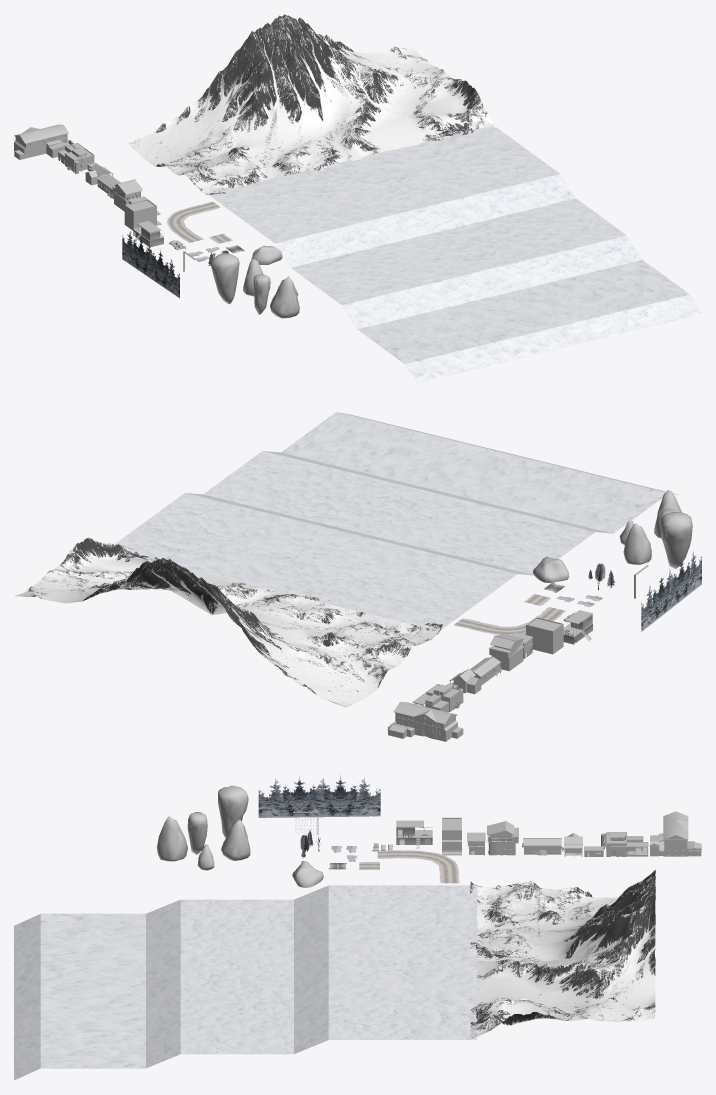
File: ENV.fbx
3 renders of one model, top to bottom at view 1: azimuth 30°, elevation 25°; view 2: azimuth 150°, elevation 25°; view 3: azimuth 270°, elevation 25°, orthographic. The views are drawn at different scales.
Visible parts, largest first — view 1: Plane, Montain, Tree_02.027, House_01, rocks_03, rocks_02, Ground_Path.001, House_07, House_02, House_05, House_08; view 2: Plane, Montain, House_01, Tree_02.027, rocks_03, House_07, House_05, House_02, Ground_Path.001, rocks_01, House_08, rock_07 (+2 smaller); view 3: Plane, Montain, Tree_02.027, House_01, rocks_03, Ground_Path.001, rocks_02, House_02, House_05, rocks_01, House_08, House_07 (+3 smaller).
Part boxes in pixels (x1,y1,x2,y2): Plane: (208, 126, 701, 383); Montain: (128, 14, 495, 194); Tree_02.027: (122, 231, 179, 298); House_01: (14, 124, 73, 159); rocks_03: (211, 253, 239, 304); rocks_02: (270, 276, 299, 318); Ground_Path.001: (167, 201, 220, 242); House_07: (124, 199, 161, 230); House_02: (58, 143, 94, 173); House_05: (112, 179, 142, 211); House_08: (133, 221, 163, 247); Plane: (116, 412, 680, 630); Montain: (15, 537, 442, 707); House_01: (387, 702, 463, 741); Tree_02.027: (641, 550, 701, 631); rocks_03: (660, 511, 692, 568); House_07: (522, 617, 563, 654); House_05: (489, 634, 524, 671); House_02: (412, 684, 463, 712); Ground_Path.001: (453, 607, 565, 634); rocks_01: (623, 523, 651, 564); House_08: (563, 610, 592, 644); rock_07: (533, 556, 569, 582); Plane: (14, 885, 477, 1080); Montain: (470, 870, 655, 1039); Tree_02.027: (258, 775, 380, 817); House_01: (649, 811, 701, 856); rocks_03: (218, 785, 248, 838); Ground_Path.001: (377, 850, 459, 883); rocks_02: (156, 816, 187, 861); House_02: (601, 832, 648, 856); House_05: (487, 821, 518, 855); rocks_01: (221, 819, 250, 860); House_08: (396, 820, 432, 848); House_07: (442, 817, 461, 855).
Size of the model in its own units: 19890 by 5504 by 25708.
